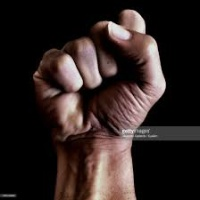ring: (70, 35, 104, 87)
